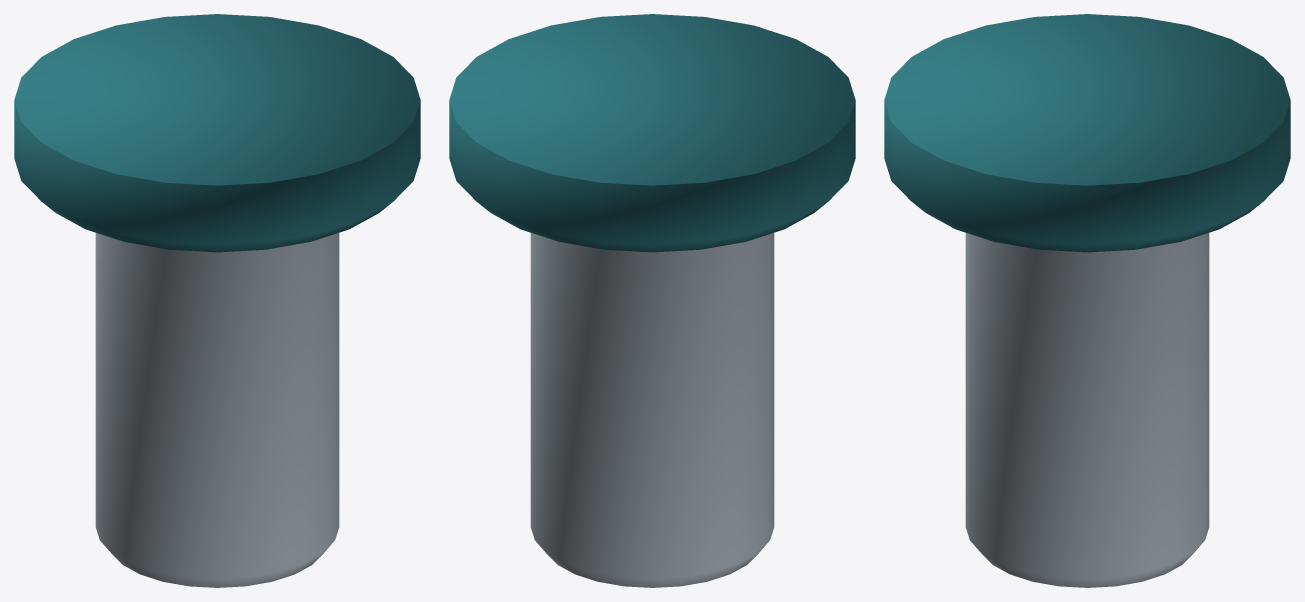
Rendered from VLAB_pins.fbx.
3 renders of one model, left to right at view 1: azimuth 30°, elevation 25°; view 2: azimuth 150°, elevation 25°; view 3: azimuth 270°, elevation 25°, orthographic.
Parts seen in each view (by area): view 1: VLAB_pins_Cap_VIS, VLAB_pins_Pin_VIS; view 2: VLAB_pins_Cap_VIS, VLAB_pins_Pin_VIS; view 3: VLAB_pins_Cap_VIS, VLAB_pins_Pin_VIS.
Part boxes in pixels (x1,y1,x2,y2): VLAB_pins_Cap_VIS: (14, 14, 420, 252); VLAB_pins_Pin_VIS: (95, 233, 339, 587); VLAB_pins_Cap_VIS: (449, 14, 855, 252); VLAB_pins_Pin_VIS: (530, 233, 774, 587); VLAB_pins_Cap_VIS: (884, 14, 1290, 252); VLAB_pins_Pin_VIS: (965, 233, 1209, 587).
Size of the model in its own units: 0.01 by 0.012 by 0.01.
